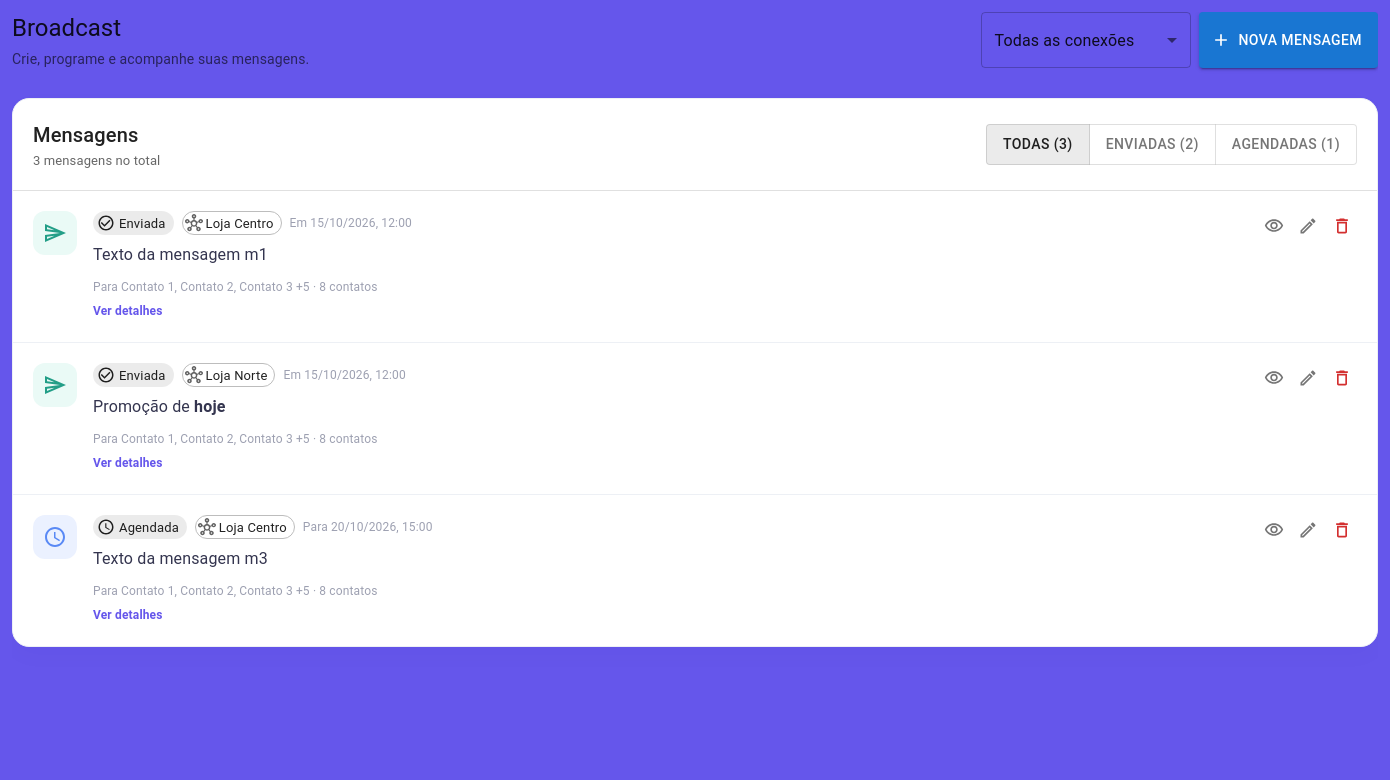
Scenario: BroadcastsPage › filters by connection and keeps the choice in the URL
Step 1. Click the dropdown named "Filtrar mensagens por conexão" → (1064, 40), box top-left (994, 30), bottom-right (1134, 50)
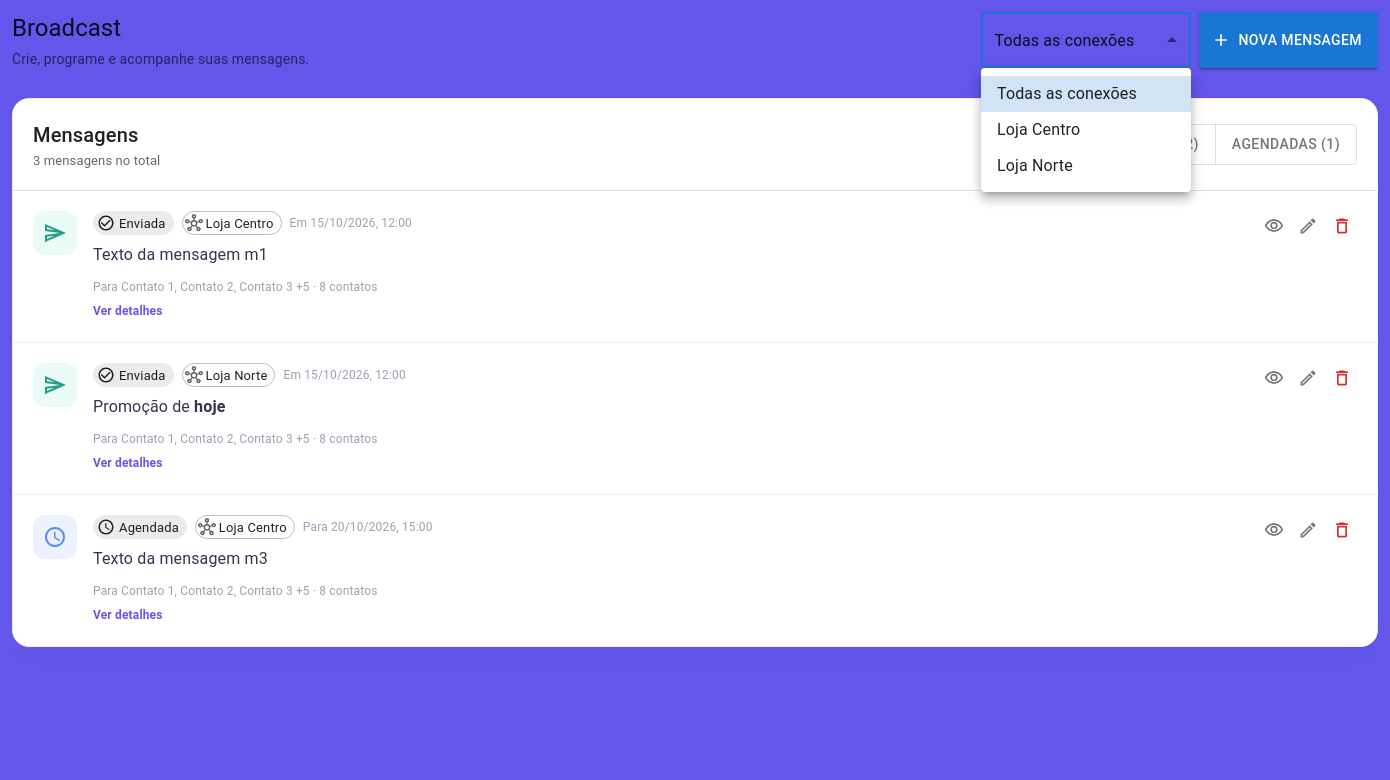
Step 2. Click the option "Loja Norte" → (1035, 166), box top-left (997, 156), bottom-right (1073, 175)
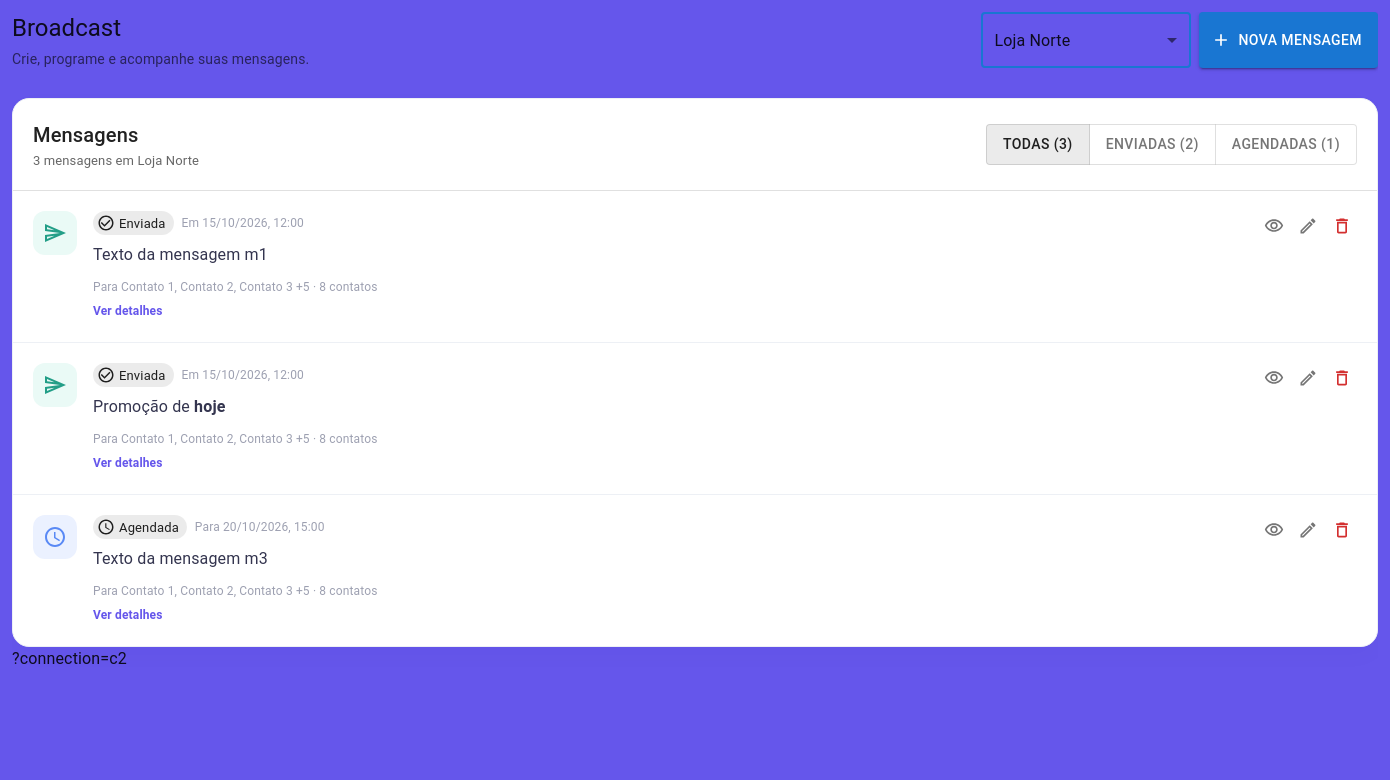
expect the text with test id "where" reads "?connection=c2": met, box top-left (12, 649), bottom-right (127, 668)
